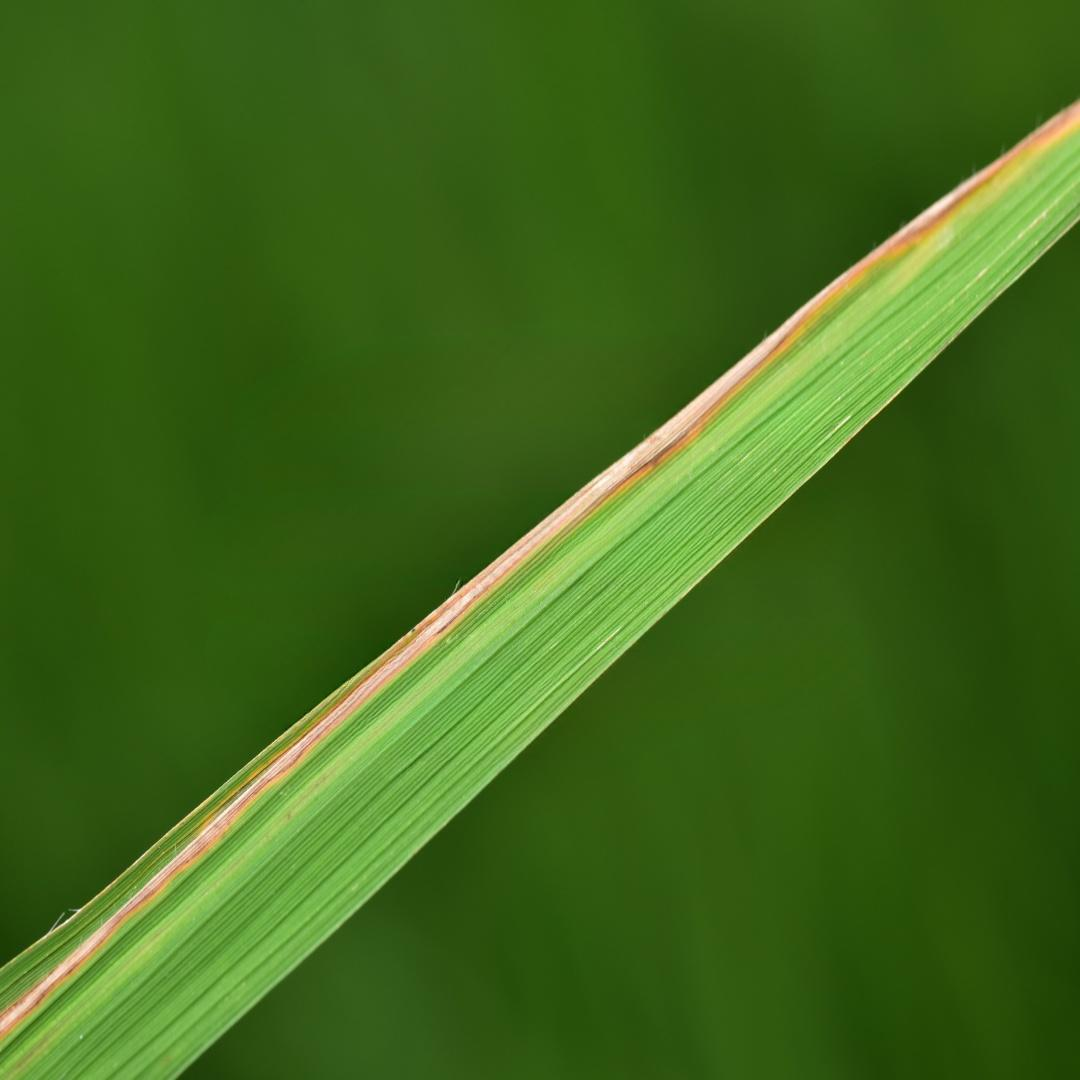BLB: (1, 104, 1078, 1041)
LEAF: (0, 102, 1079, 1079)
